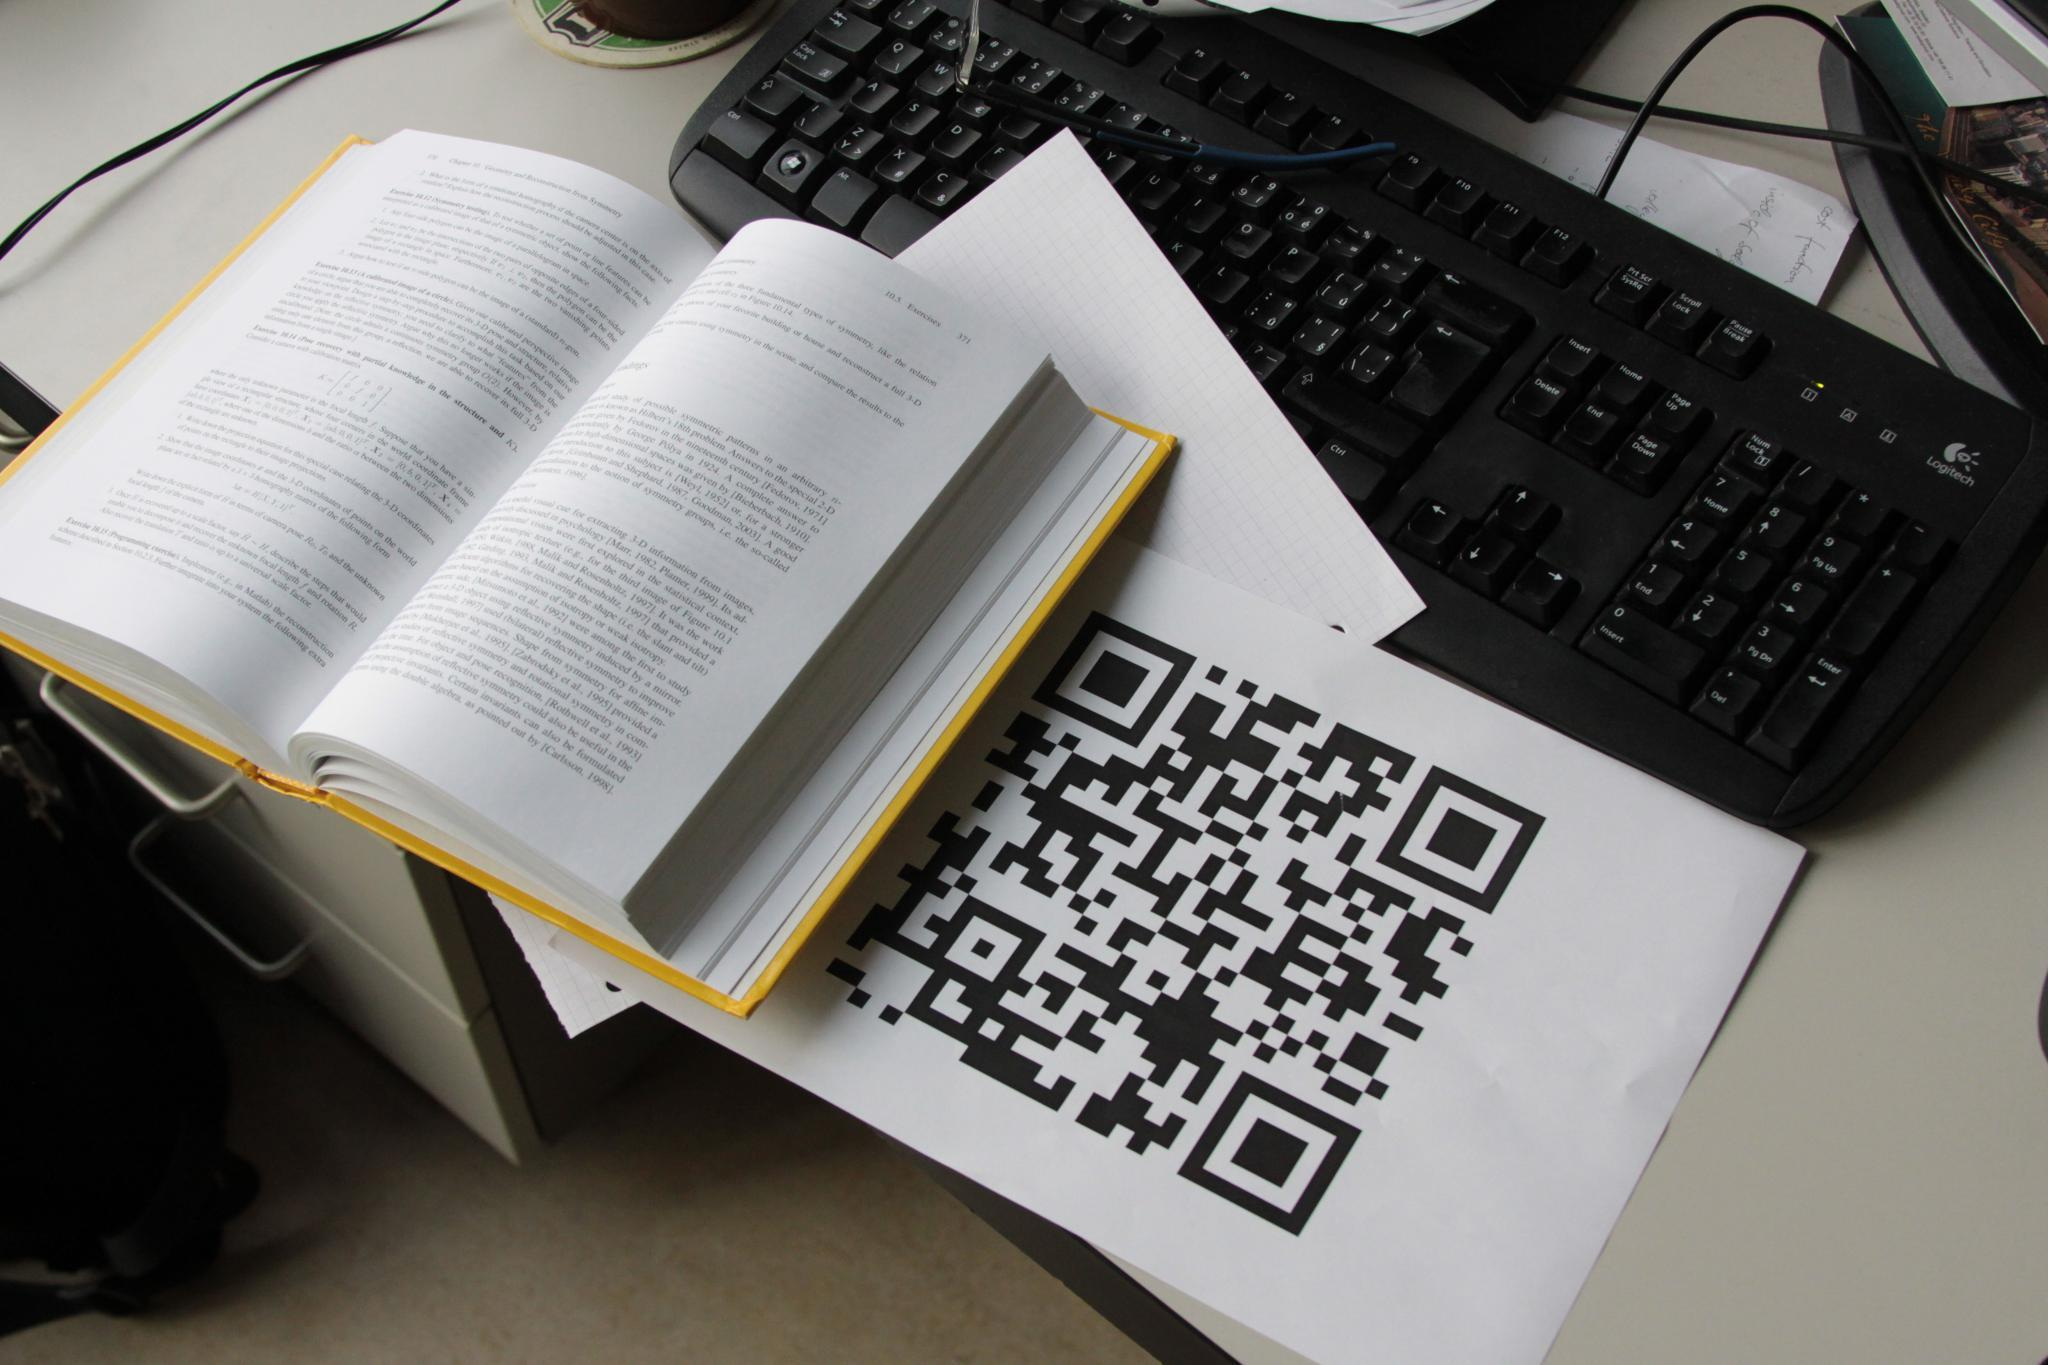qr_code: (815, 606, 1549, 1239)
